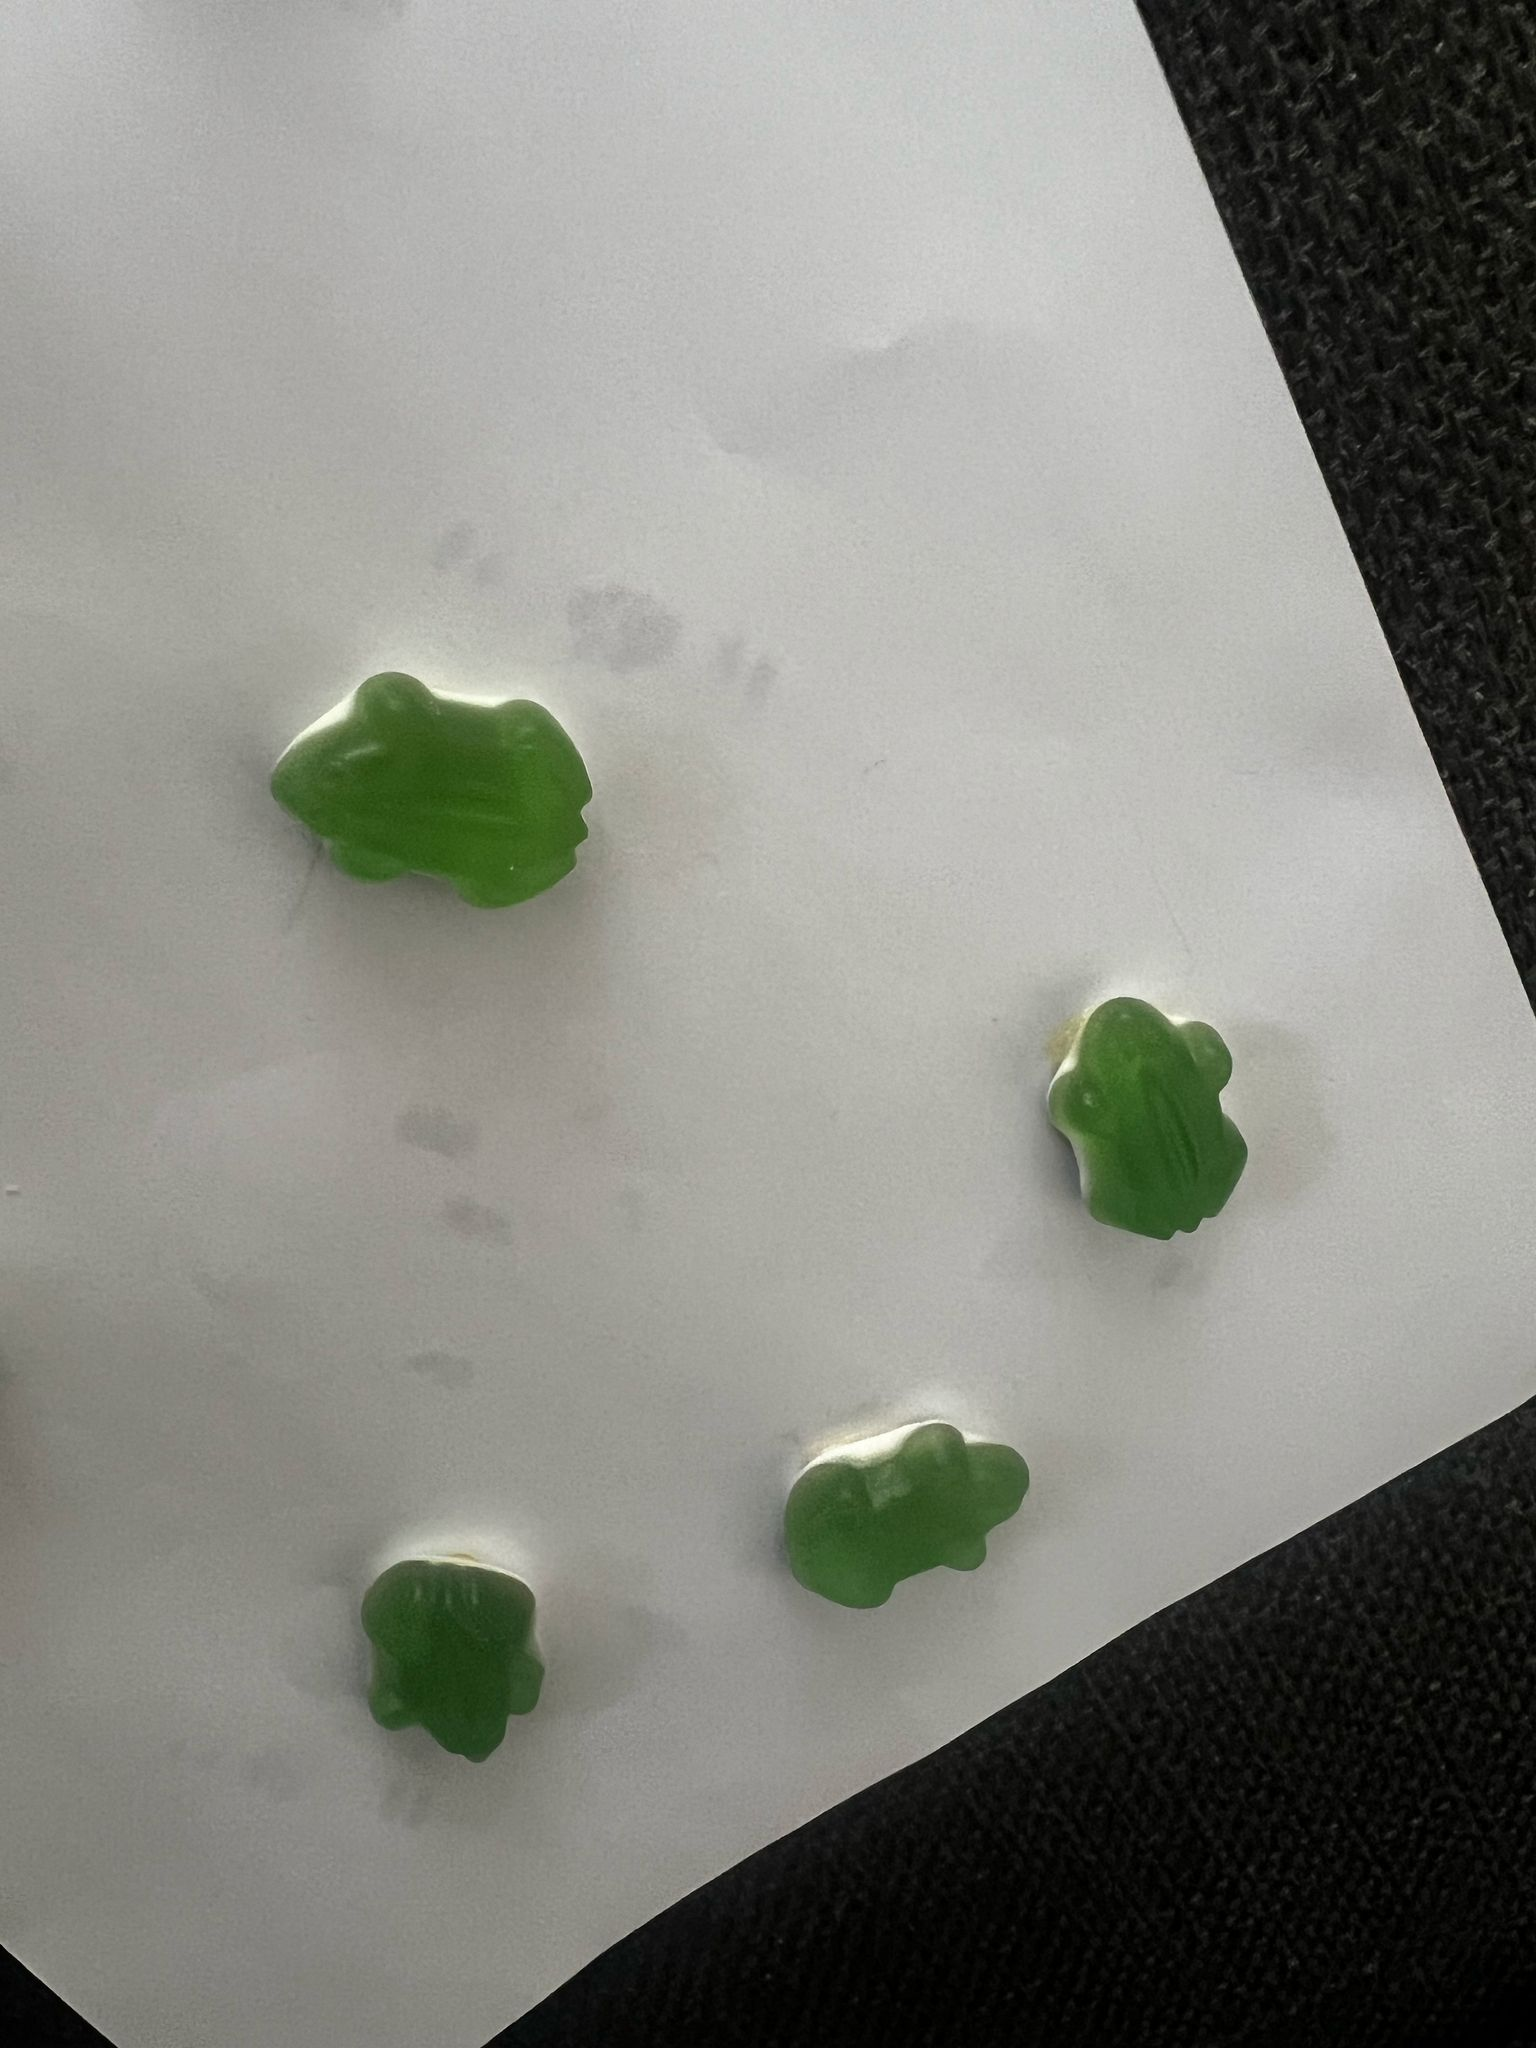frog: (265, 648, 599, 926), (779, 1406, 1044, 1622), (1042, 984, 1254, 1248), (334, 1542, 558, 1775)
